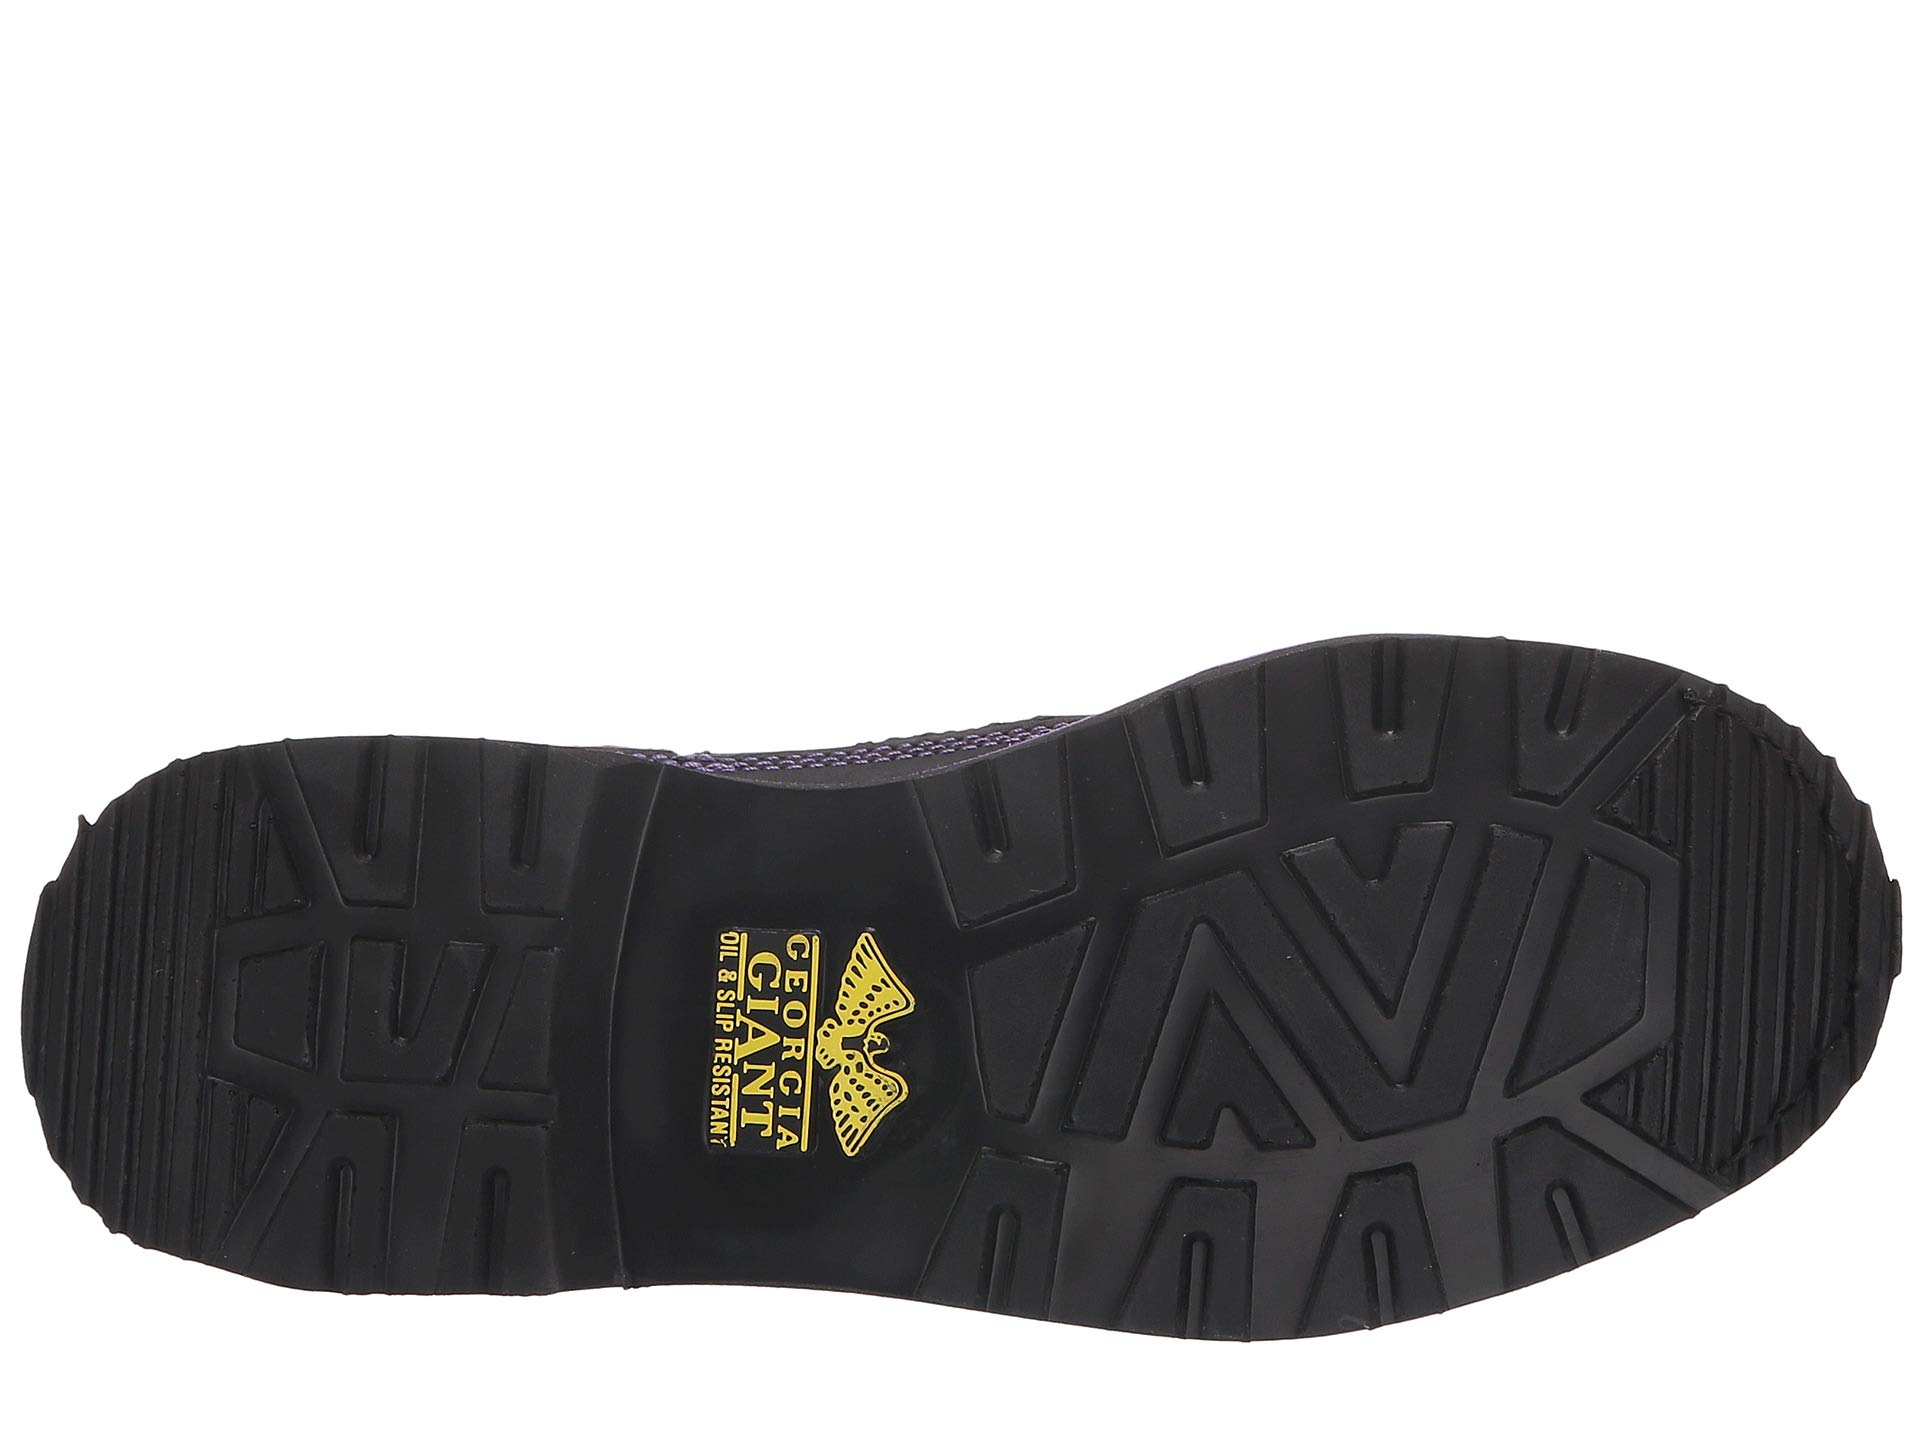chevron: (1075, 812, 1542, 1221)
